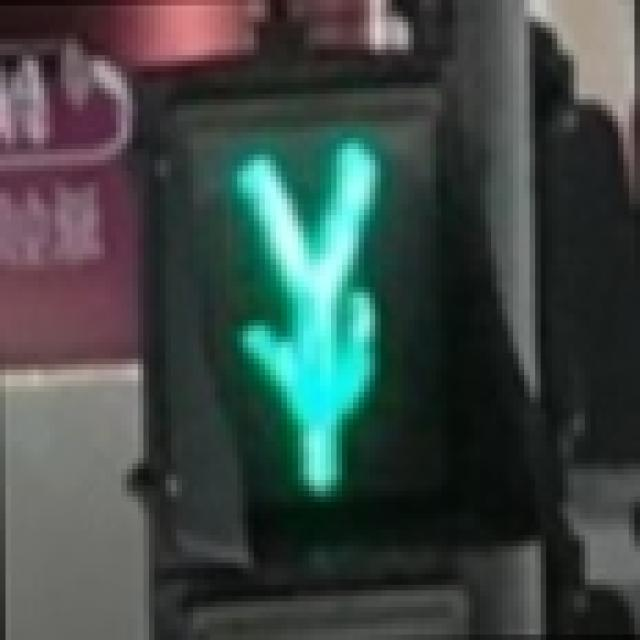green_light: (182, 93, 442, 524)
